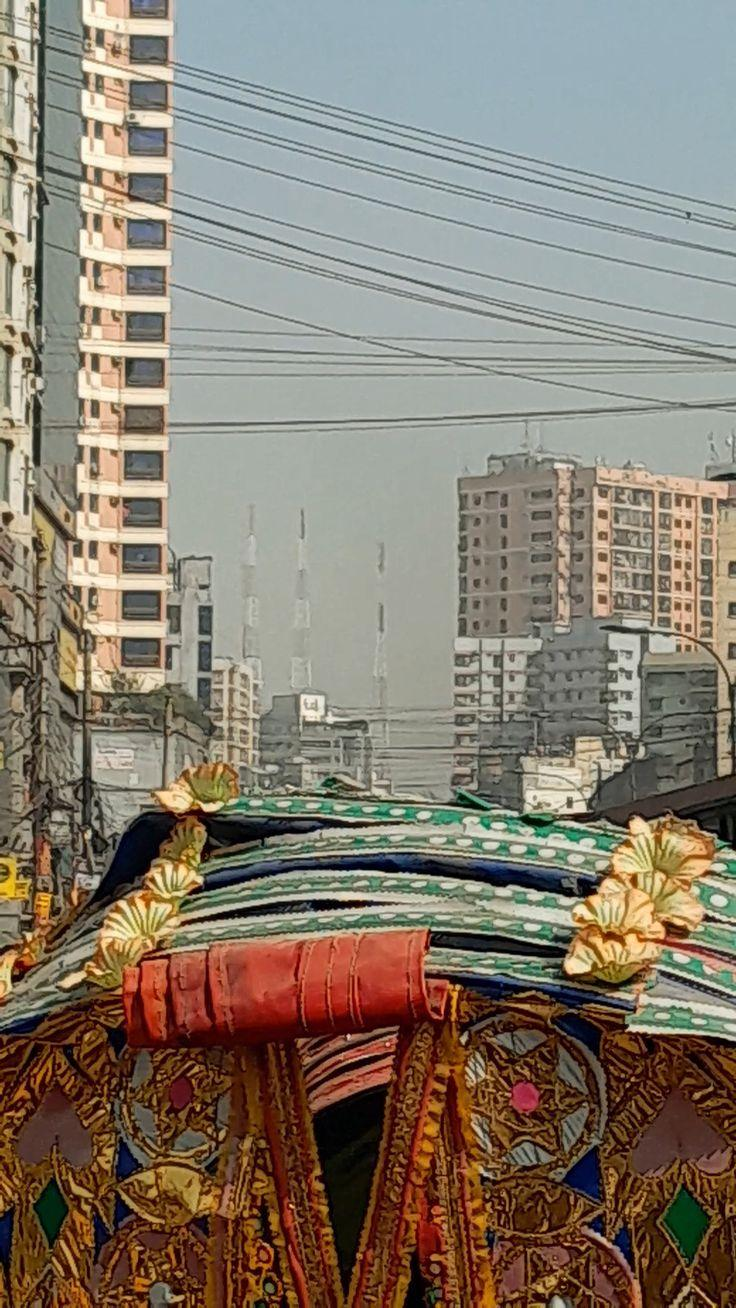Rickshaw: (0, 763, 735, 1307)
